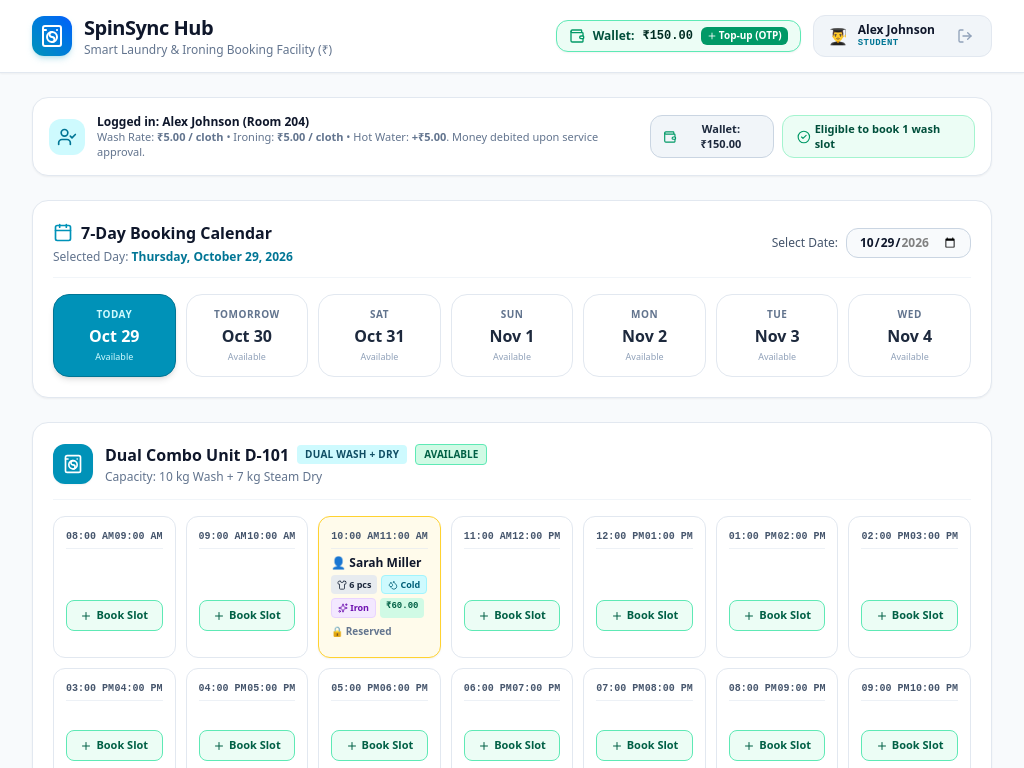
Test: Module: Wallet & OTP Recharge (Excluding Login) › validates incorrect OTP and displays error message
# Open wallet modal
Click the button titled "View & Recharge Student Wallet with OTP". click: (678, 36)
box: [556, 20, 801, 52]
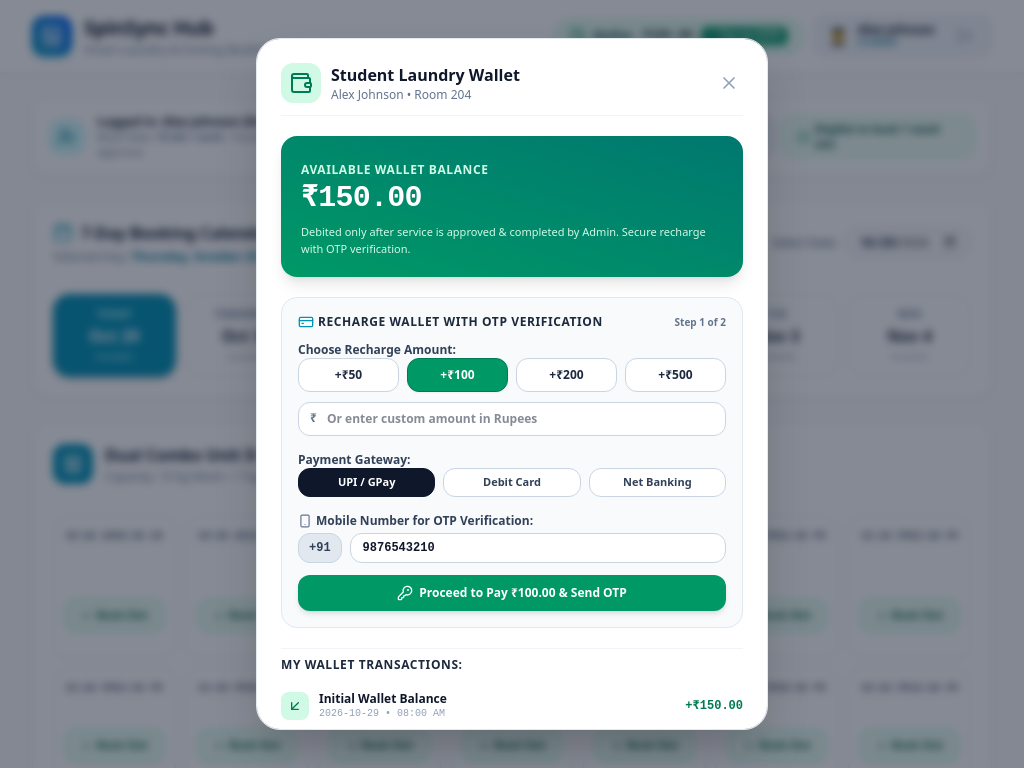
Expected: the heading "Student Laundry Wallet" is shown, [331, 63, 520, 87]
# Select +₹50
Click the button "+₹50". click: (348, 375)
box: [298, 358, 399, 392]
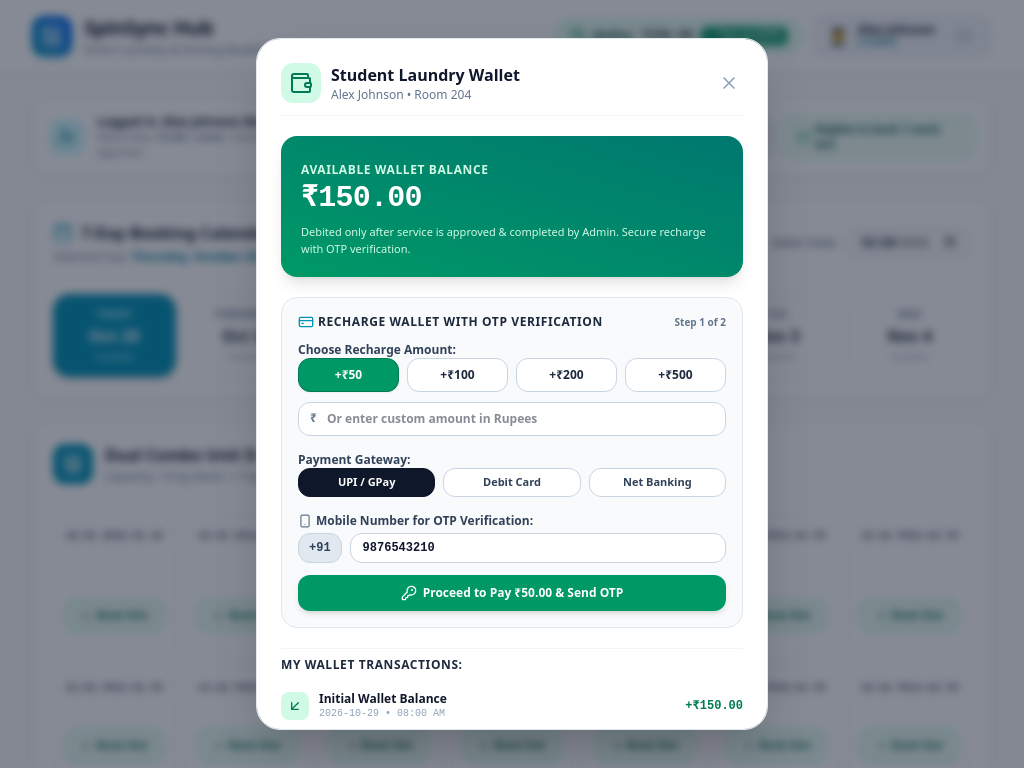
# Proceed to OTP
Click the button "Proceed to Pay ₹50.00 & Send OTP". click: (512, 593)
box: [298, 575, 726, 611]
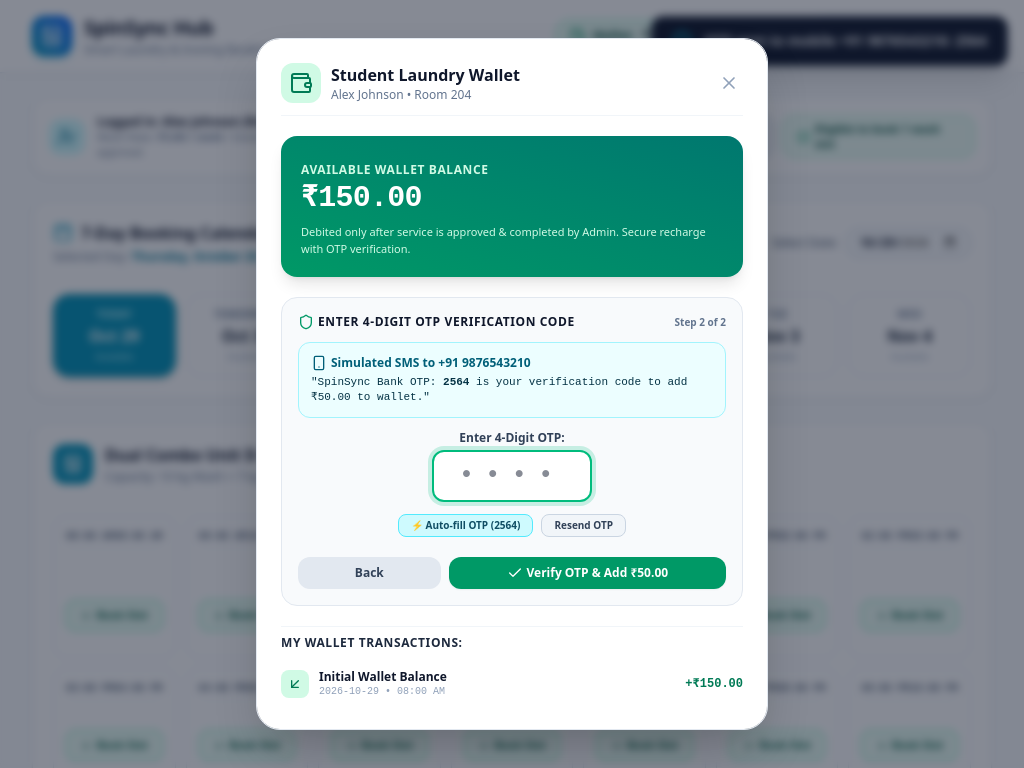
Expected: the heading "Enter 4-Digit OTP Verification Code" is shown, [298, 314, 575, 330]
# Enter wrong OTP "0000"
Type "0000" into the field with placeholder "••••". click: (512, 476)
box: [432, 450, 592, 502]
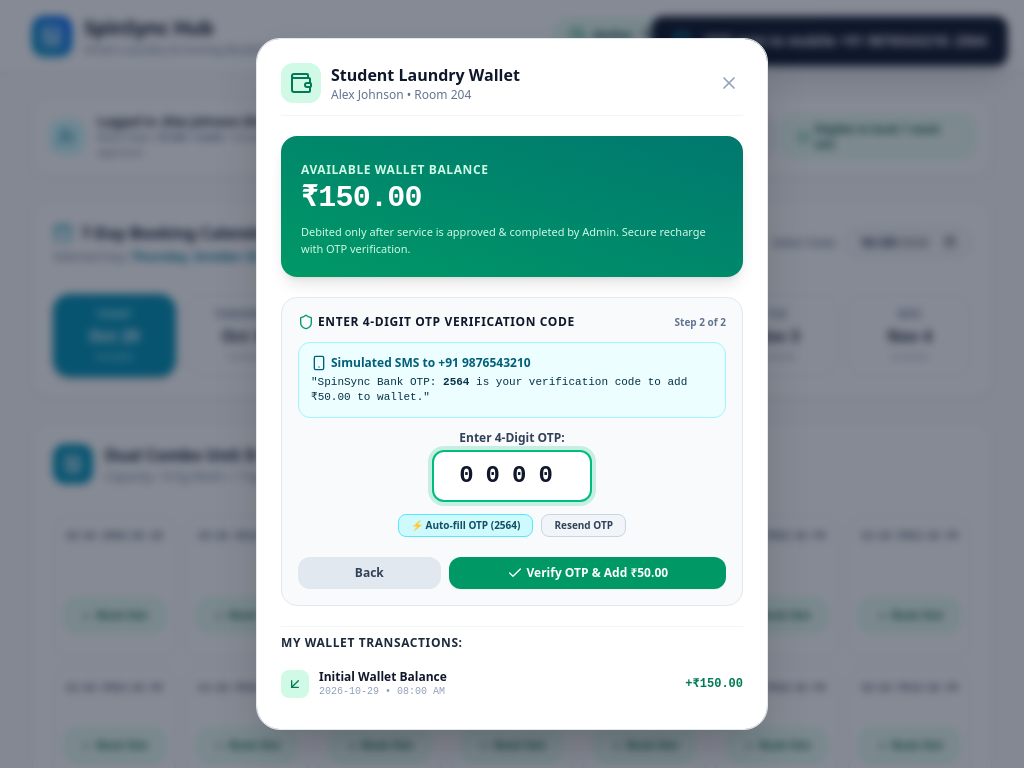
Click the button "Verify OTP & Add ₹50.00". click: (587, 573)
box: [449, 557, 726, 589]
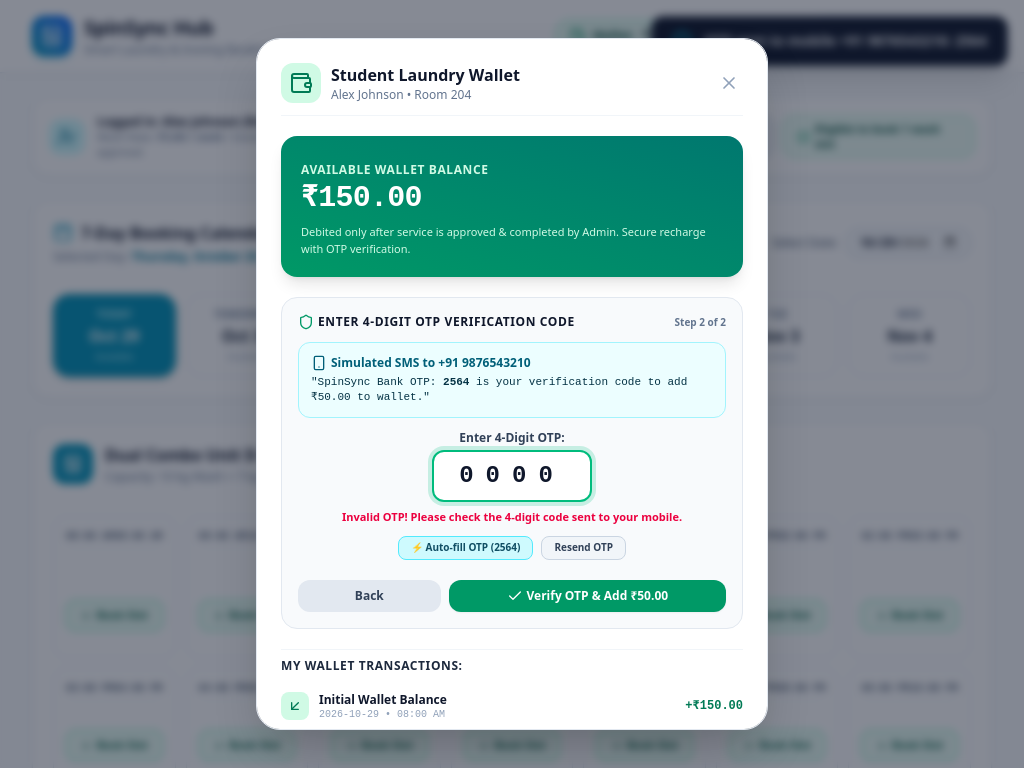
Expected: the text "Invalid OTP!" is shown, [342, 509, 682, 524]
